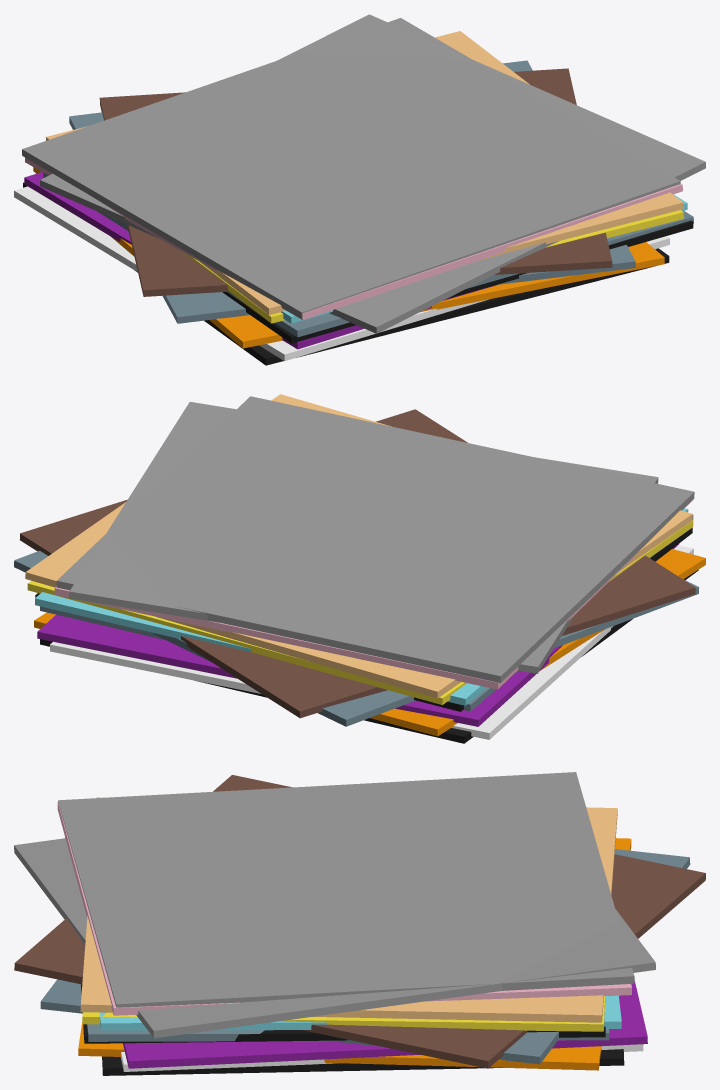
The model's file is Record_Stack.fbx.
The picture shows the model from 3 angles, top to bottom: view 1: azimuth 30°, elevation 25°; view 2: azimuth 150°, elevation 25°; view 3: azimuth 270°, elevation 25°; orthographic projection. The views are drawn at different scales.
Visible parts, largest first — view 1: mesh_608281267, mesh_889141102, mesh_1241777729, mesh_836232659, mesh_906853290, mesh_1156458666, mesh_1542908697, mesh_924230297, mesh_628806985, mesh_1704534164, mesh_481526367, mesh_1599080130 (+1 smaller); view 2: mesh_608281267, mesh_1241777729, mesh_889141102, mesh_836232659, mesh_1704534164, mesh_906853290, mesh_1542908697, mesh_92535811, mesh_924230297, mesh_1156458666, mesh_1679567239, mesh_628806985 (+2 smaller); view 3: mesh_608281267, mesh_889141102, mesh_1241777729, mesh_836232659, mesh_1704534164, mesh_1156458666, mesh_92535811, mesh_1542908697, mesh_924230297, mesh_628806985, mesh_1599080130, mesh_1679567239 (+2 smaller).
Boxes of the visible parts, left/top/right/bottom form: mesh_608281267: left=22, top=18, right=680, bottom=318; mesh_889141102: left=40, top=14, right=705, bottom=333; mesh_1241777729: left=99, top=68, right=612, bottom=296; mesh_836232659: left=46, top=31, right=683, bottom=314; mesh_906853290: left=14, top=186, right=669, bottom=361; mesh_1156458666: left=33, top=167, right=664, bottom=348; mesh_1542908697: left=69, top=60, right=635, bottom=323; mesh_924230297: left=25, top=157, right=682, bottom=319; mesh_628806985: left=23, top=182, right=669, bottom=365; mesh_1704534164: left=24, top=172, right=496, bottom=349; mesh_481526367: left=222, top=220, right=693, bottom=343; mesh_1599080130: left=43, top=173, right=693, bottom=337; mesh_608281267: left=56, top=396, right=694, bottom=682; mesh_1241777729: left=20, top=409, right=695, bottom=718; mesh_889141102: left=69, top=402, right=658, bottom=673; mesh_836232659: left=25, top=394, right=692, bottom=698; mesh_1704534164: left=37, top=543, right=679, bottom=726; mesh_906853290: left=50, top=545, right=693, bottom=739; mesh_1542908697: left=14, top=550, right=699, bottom=726; mesh_92535811: left=27, top=520, right=693, bottom=704; mesh_924230297: left=54, top=499, right=693, bottom=689; mesh_1156458666: left=34, top=549, right=705, bottom=736; mesh_1679567239: left=35, top=508, right=688, bottom=705; mesh_628806985: left=40, top=570, right=698, bottom=743; mesh_608281267: left=58, top=772, right=634, bottom=1007; mesh_889141102: left=14, top=838, right=655, bottom=1038; mesh_1241777729: left=14, top=775, right=705, bottom=1068; mesh_836232659: left=80, top=797, right=617, bottom=1022; mesh_1704534164: left=123, top=981, right=647, bottom=1068; mesh_1156458666: left=78, top=838, right=631, bottom=1070; mesh_92535811: left=82, top=996, right=605, bottom=1031; mesh_1542908697: left=40, top=849, right=690, bottom=1064; mesh_924230297: left=57, top=802, right=631, bottom=1015; mesh_628806985: left=102, top=1049, right=624, bottom=1075; mesh_1599080130: left=65, top=837, right=609, bottom=1041; mesh_1679567239: left=99, top=995, right=621, bottom=1030.
Bounding box in the file's own units: 170 × 23.45 × 170.
